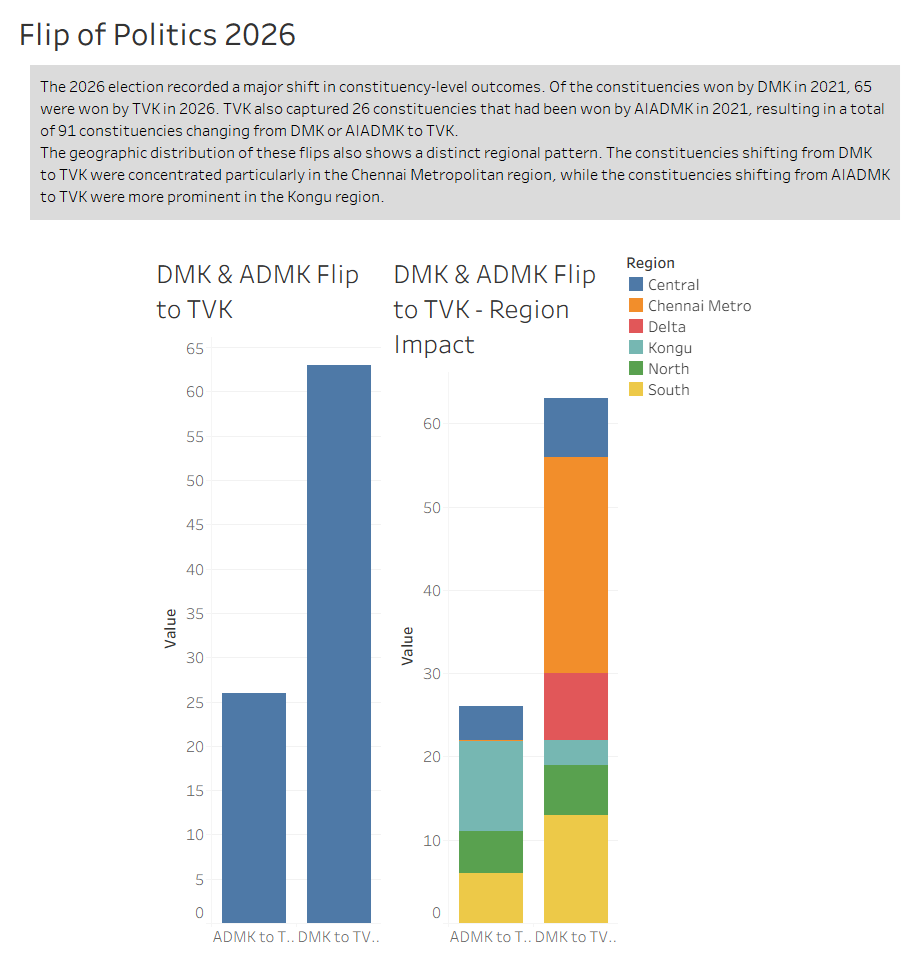

The page's visual inventory and layout, read from the dashboard file:
{"tool":"tableau","page":{"name":"Flip of Politics","canvas":[650,860],"ordinal":0},"visuals":[{"type":"worksheet","title":"DMK & ADMK Flip to TVK","mark":"Automatic","box":[8,8.1,237,843.8]},{"type":"worksheet","title":"DMK & ADMK Flip to TVK - Region Impact","mark":"Automatic","box":[245,8.1,237,843.8]},{"type":"legend","title":"DMK & ADMK Flip to TVK - Region Impact","param":"[federated.06ahghl0tjm3m51bu44b00fpmhzl].[none:region:nk]","box":[482,8.1,160,157.5]}]}

Visuals, with their boxes on the page's 650x860 design canvas (x1, y1, x2, y2). These are canvas units, not pixel positions in the 921x967 screenshot, which may show the page scaled, cropped or inside an application window:
"DMK & ADMK Flip to TVK" worksheet: {"x1": 8, "y1": 8, "x2": 245, "y2": 852}
"DMK & ADMK Flip to TVK - Region Impact" worksheet: {"x1": 245, "y1": 8, "x2": 482, "y2": 852}
"DMK & ADMK Flip to TVK - Region Impact" legend: {"x1": 482, "y1": 8, "x2": 642, "y2": 166}
